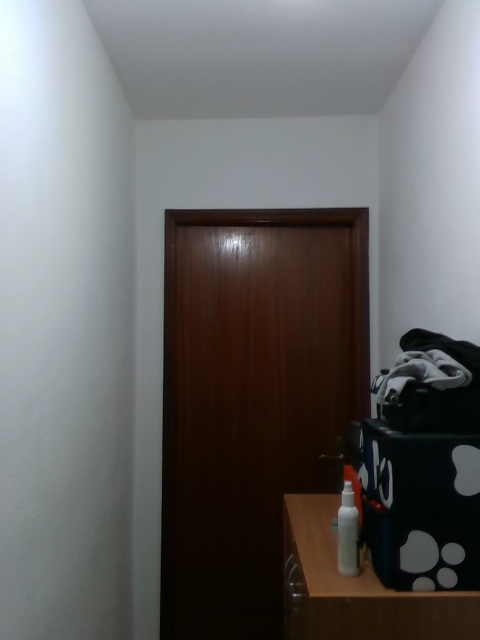closed: (158, 212, 362, 632)
